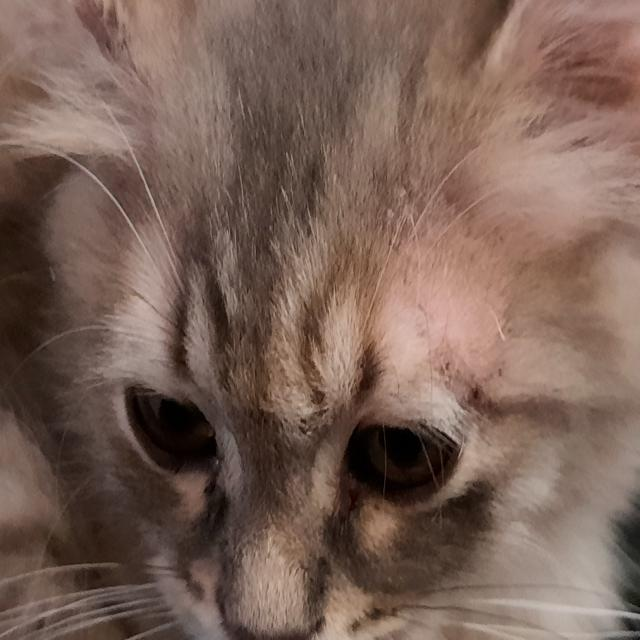hairloss: (378, 295, 465, 406)
